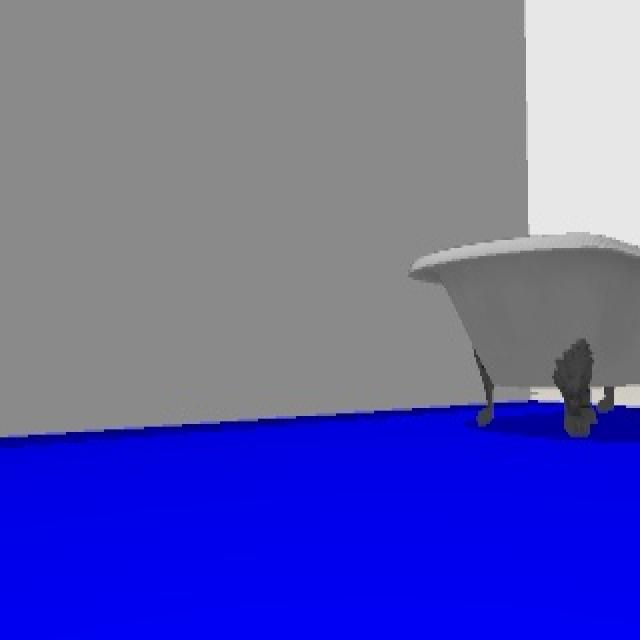bathtub: (402, 230, 639, 442)
